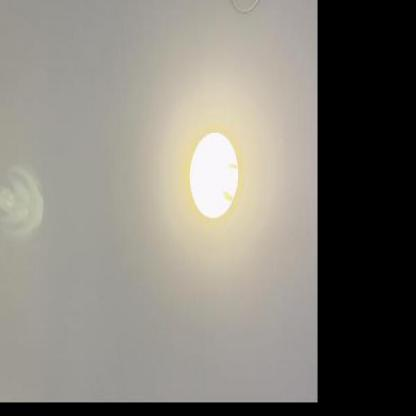light_on: (178, 116, 248, 235)
